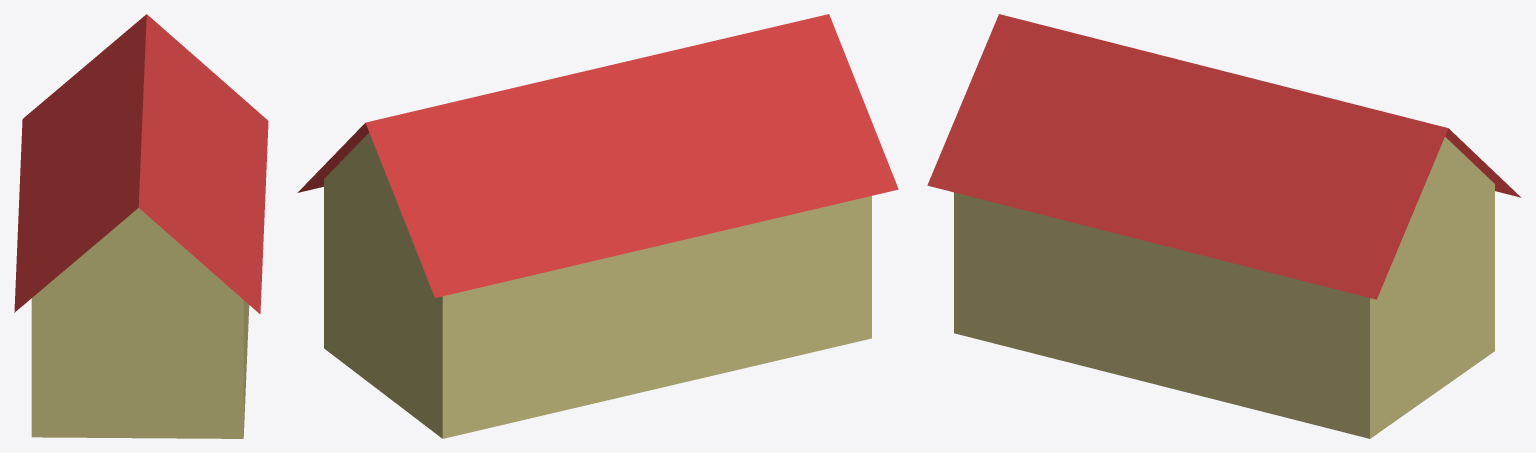
The picture shows the model from 3 angles, left to right: view 1: azimuth 30°, elevation 25°; view 2: azimuth 150°, elevation 25°; view 3: azimuth 270°, elevation 25°; orthographic projection. The views are drawn at different scales.
Bounding box in the file's own units: 19.66 × 22.85 × 11.52.
